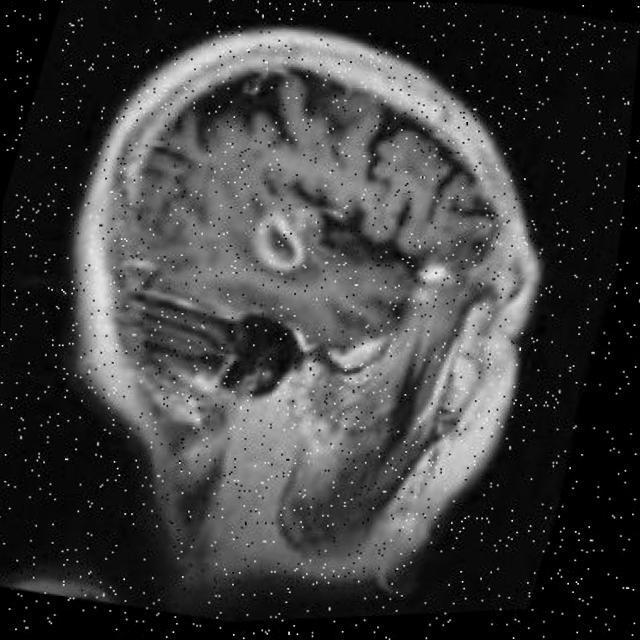LMCI: (107, 176, 346, 354)
